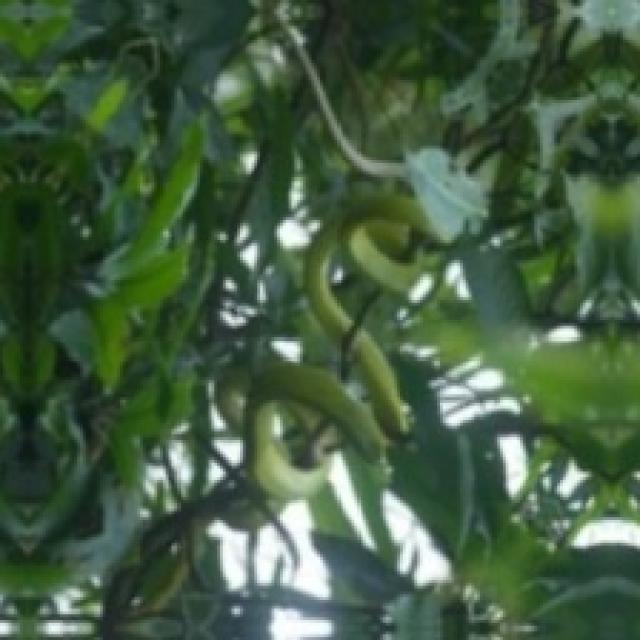red-tailed green ratsnake: (306, 197, 423, 431), (249, 361, 388, 501)
